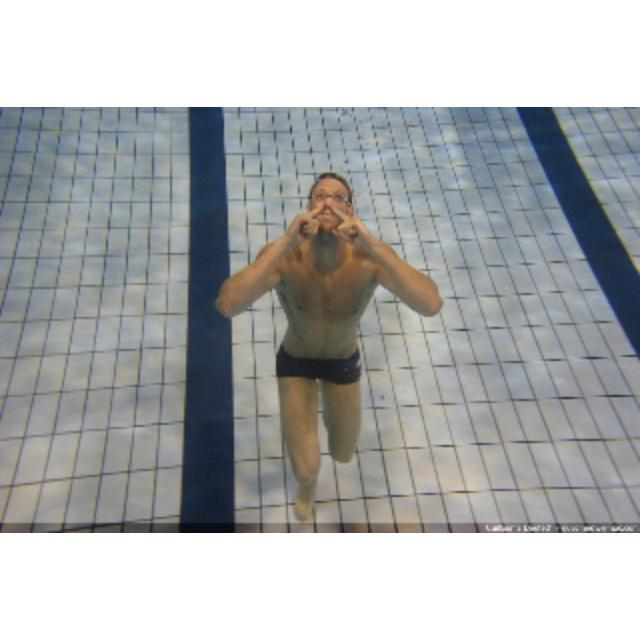human: (213, 174, 445, 520)
